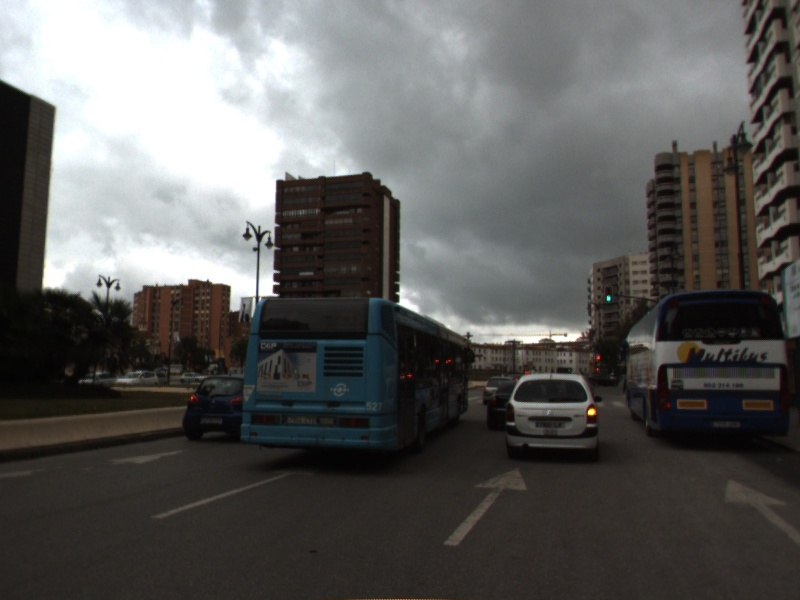STRAIGHT: (439, 464, 532, 550), (720, 474, 800, 544)
